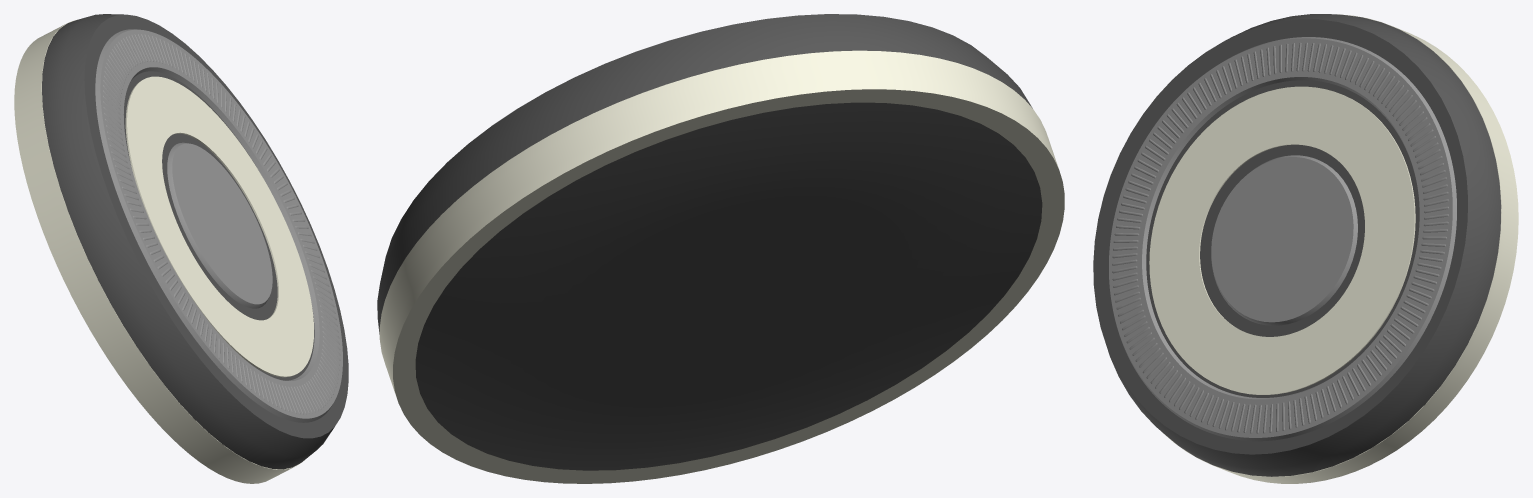
File: demonstration_noCorona_pause.glb
3 renders of one model, left to right at view 1: azimuth 30°, elevation 25°; view 2: azimuth 150°, elevation 25°; view 3: azimuth 270°, elevation 25°, orthographic. The views are drawn at different scales.
Visible parts, largest first — view 1: Tube (×2), Oil Tank, Rotate, Oil Tank.1; view 2: Oil Tank, Tube; view 3: Tube (×2), Oil Tank, Rotate, Oil Tank.1.
Boxes of the visible parts, left/top/right/bottom form: Tube (×2): left=14, top=20, right=313, bottom=483; Oil Tank: left=42, top=14, right=348, bottom=469; Rotate: left=95, top=29, right=342, bottom=422; Oil Tank.1: left=167, top=142, right=272, bottom=308; Oil Tank: left=377, top=14, right=1042, bottom=470; Tube: left=379, top=50, right=1064, bottom=483; Tube (×2): left=1149, top=14, right=1518, bottom=483; Oil Tank: left=1093, top=14, right=1501, bottom=476; Rotate: left=1109, top=37, right=1456, bottom=441; Oil Tank.1: left=1211, top=155, right=1357, bottom=325.
Bounding box in the file's own units: 5.05 × 5.38 × 5.38.
